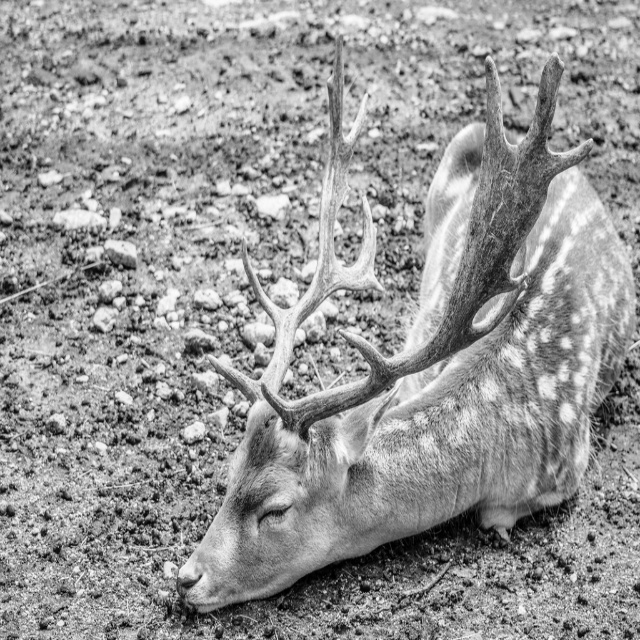Deer: (173, 28, 638, 614)
